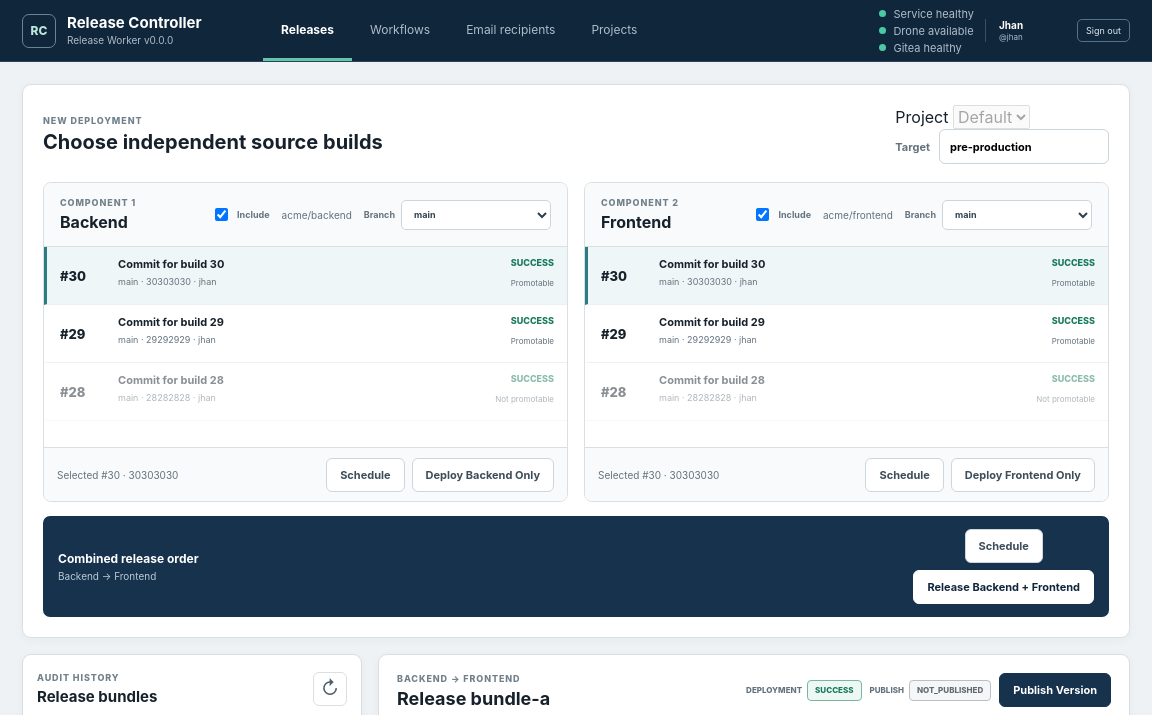
Test: 選取不會重建 DOM › 改選 build 只移動 selected 樣式，沿用原本的節點
Expected: the button with class "build-row" below "acme/frontend" is shown, [585, 247, 1108, 305]
Click the button with class "build-row" below "acme/frontend". click: (712, 322)
box: [585, 305, 1108, 363]
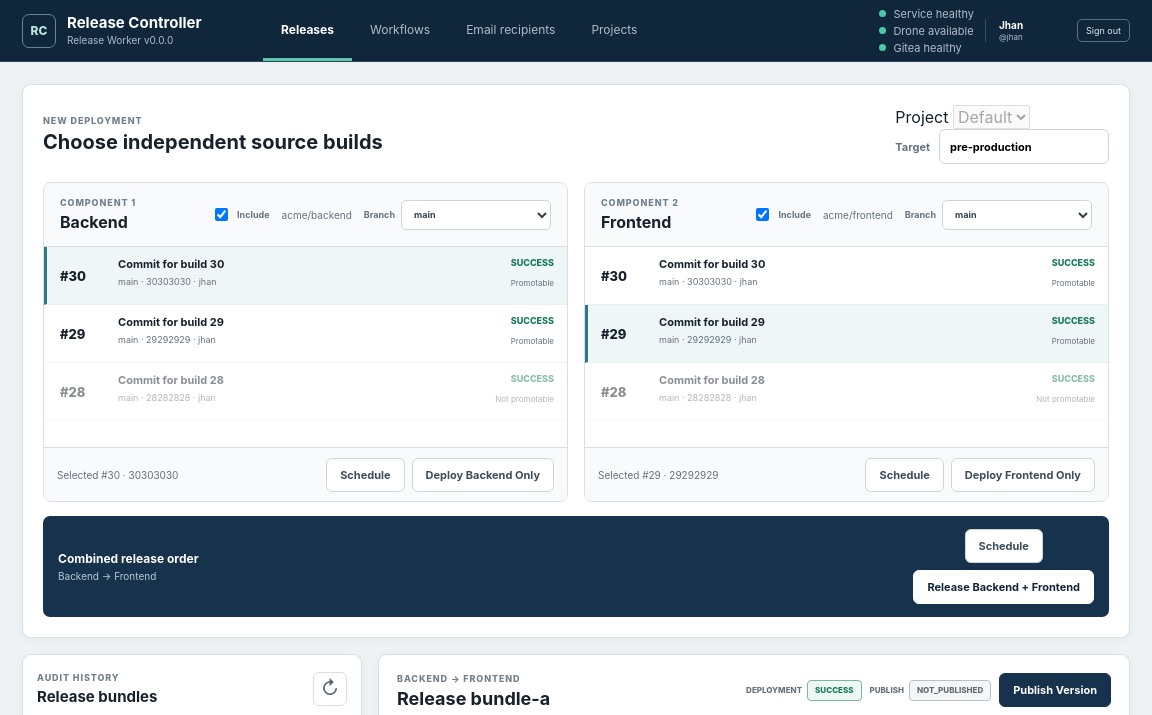
Expected: the text with id "frontend-selection" shows "Selected #29", [598, 468, 718, 480]
